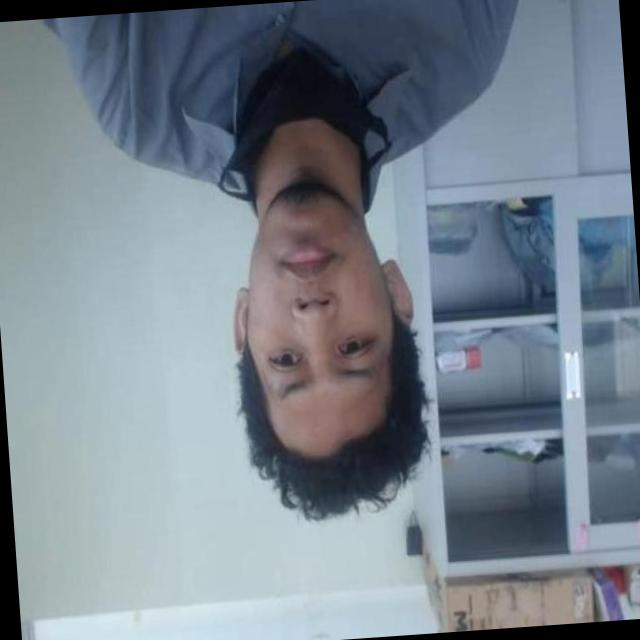bareface: (245, 187, 391, 461)
